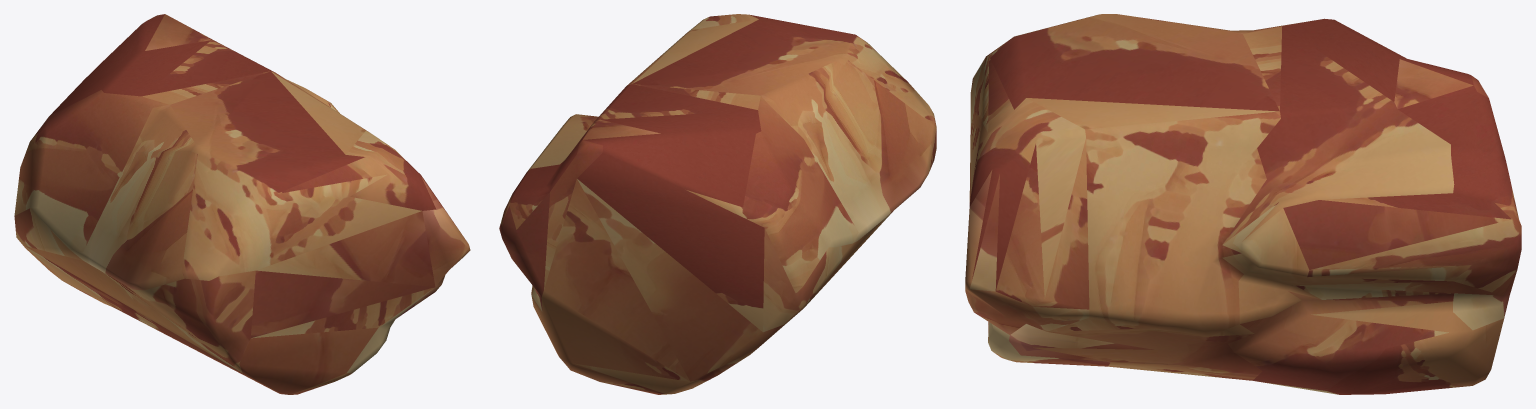
File: Rock_7.fbx
3 views of the same model, side by side, from view 1: azimuth 30°, elevation 25°; view 2: azimuth 150°, elevation 25°; view 3: azimuth 270°, elevation 25° (orthographic). The views are drawn at different scales.
Parts seen in each view (by area): view 1: tripo_node_f2ac0eae; view 2: tripo_node_f2ac0eae; view 3: tripo_node_f2ac0eae.
Part boxes in pixels (x1,y1,x2,y2): tripo_node_f2ac0eae: [14, 14, 470, 394]; tripo_node_f2ac0eae: [499, 14, 936, 394]; tripo_node_f2ac0eae: [965, 14, 1521, 394].
Size of the model in its own units: 0.7832 by 0.6426 by 0.998.
